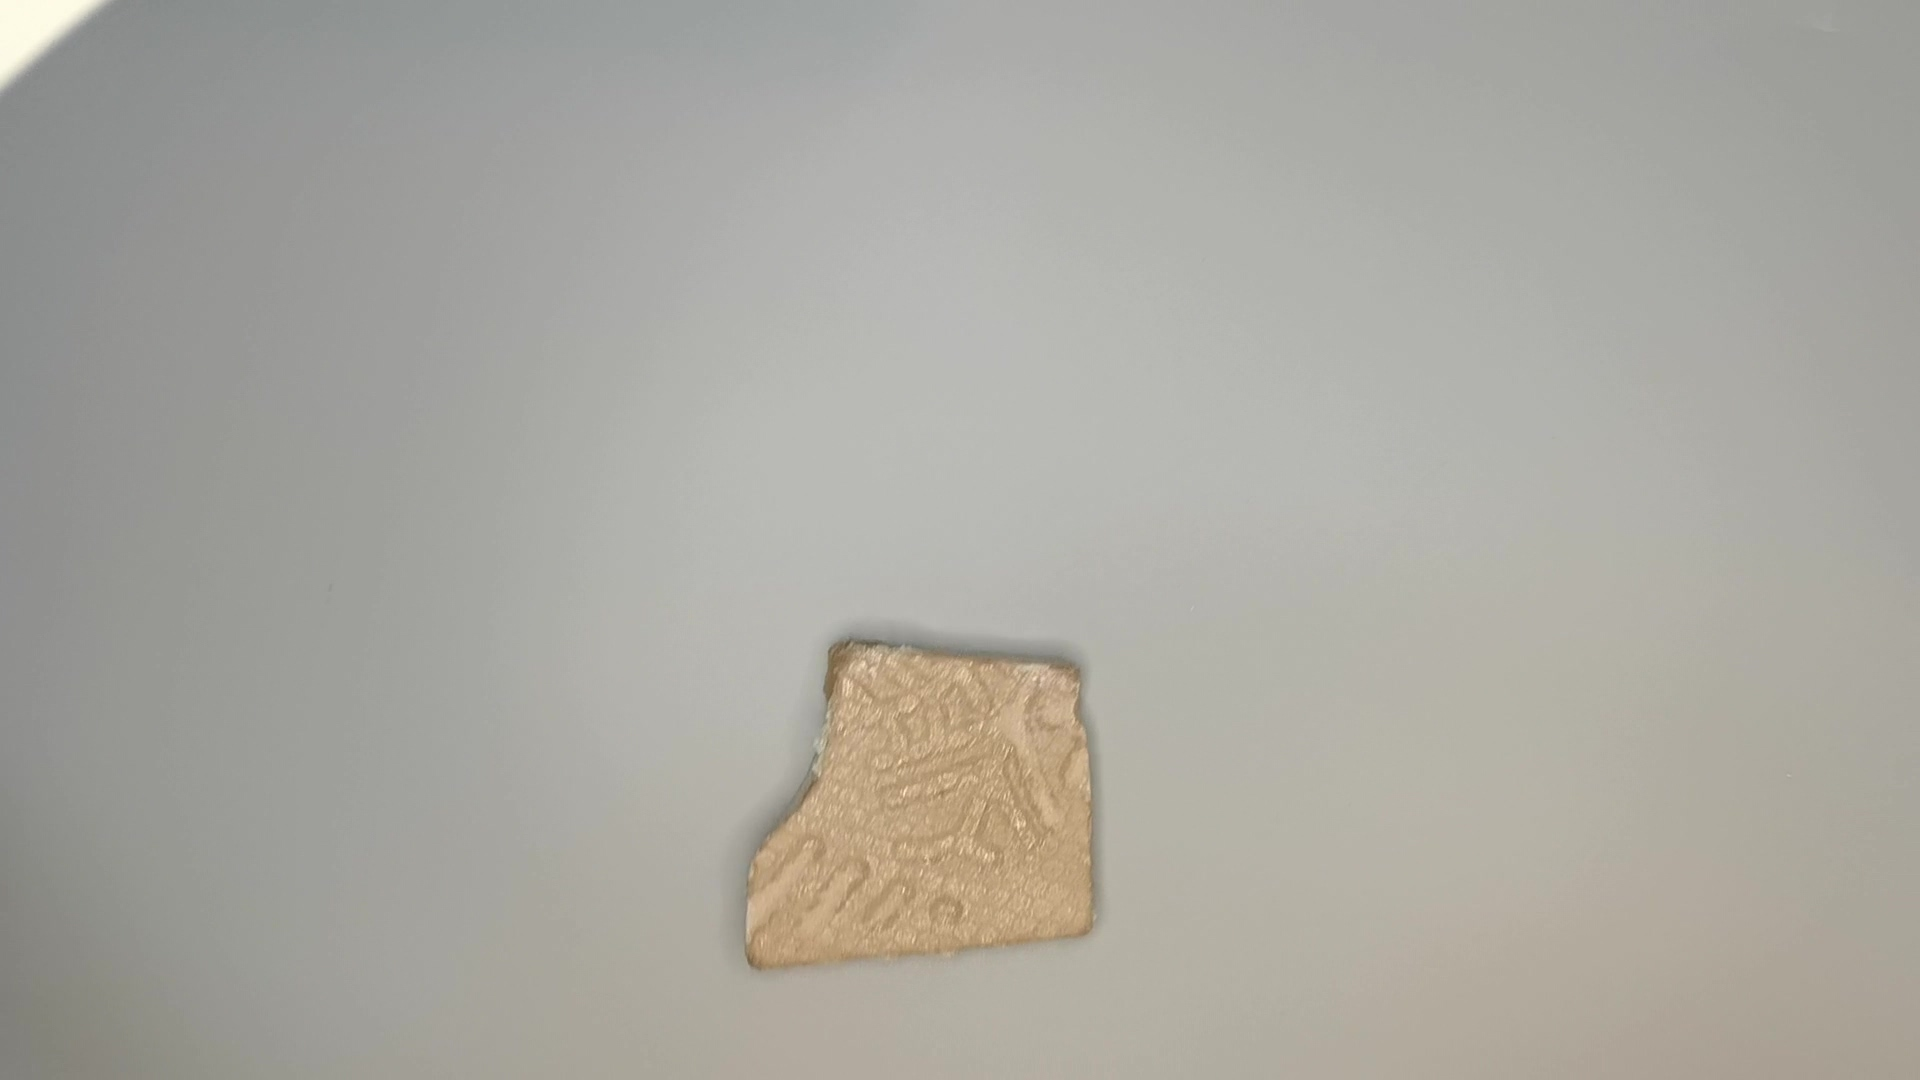ceramic: (733, 637, 1101, 978)
